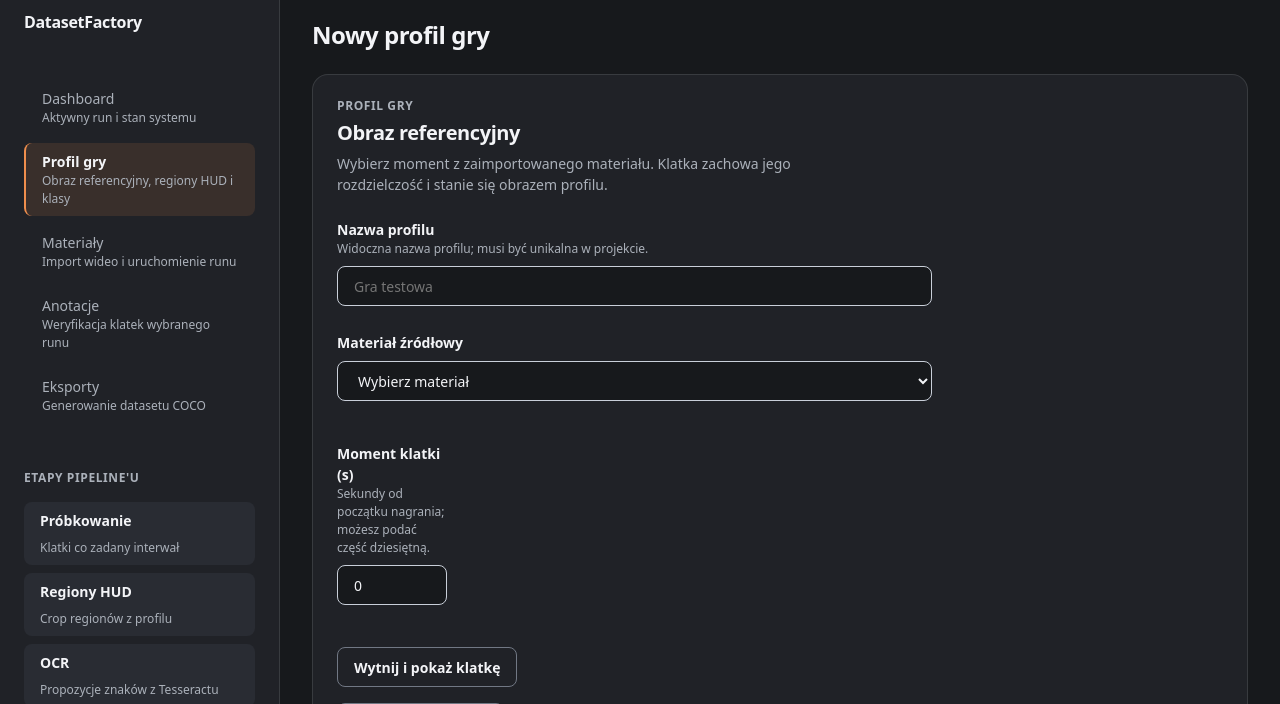
Test case: the reference frame comes from an imported material › keeps a moment past the end of the material inside the browser
This screenshot has width=1280, height=704.
Select "mecz.mp4 — 1920 × 1080 px" in the dropdown labelled "Materiał źródłowy" at (634, 381), box [337,361,932,401]
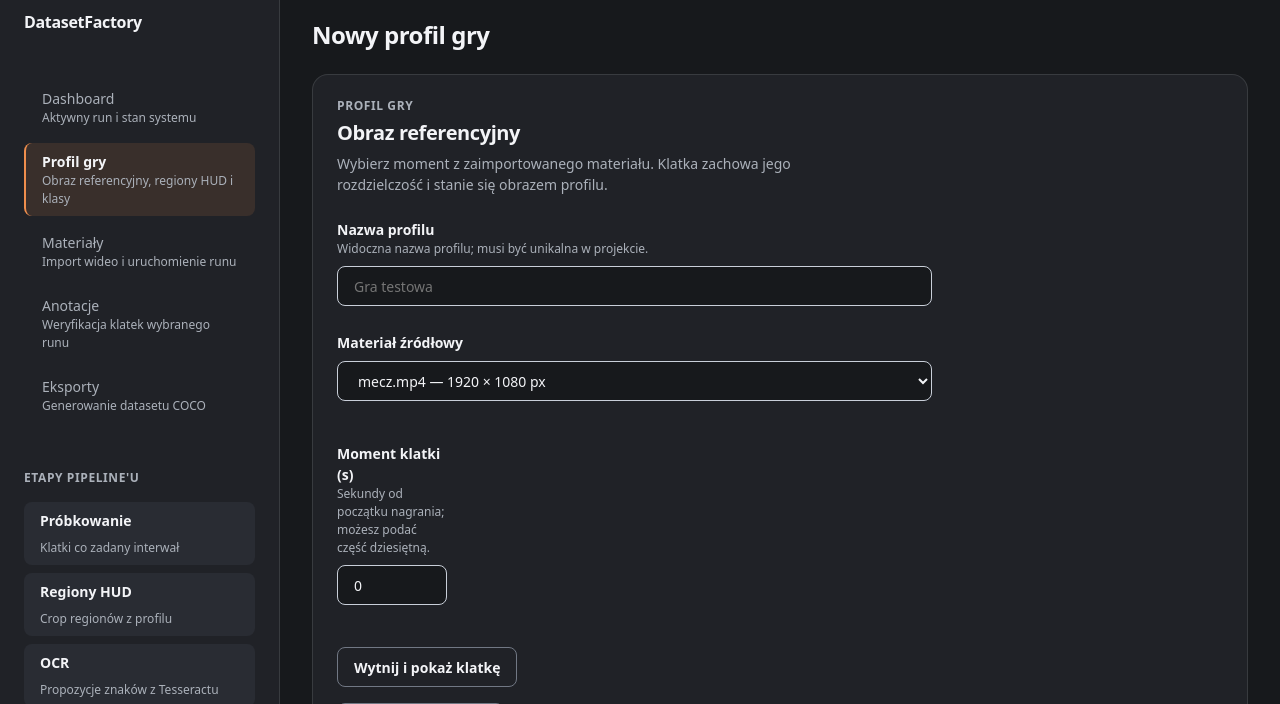
Replace the text in the field labelled "Moment klatki (s)" with "125" at (392, 585), box [337,565,447,605]
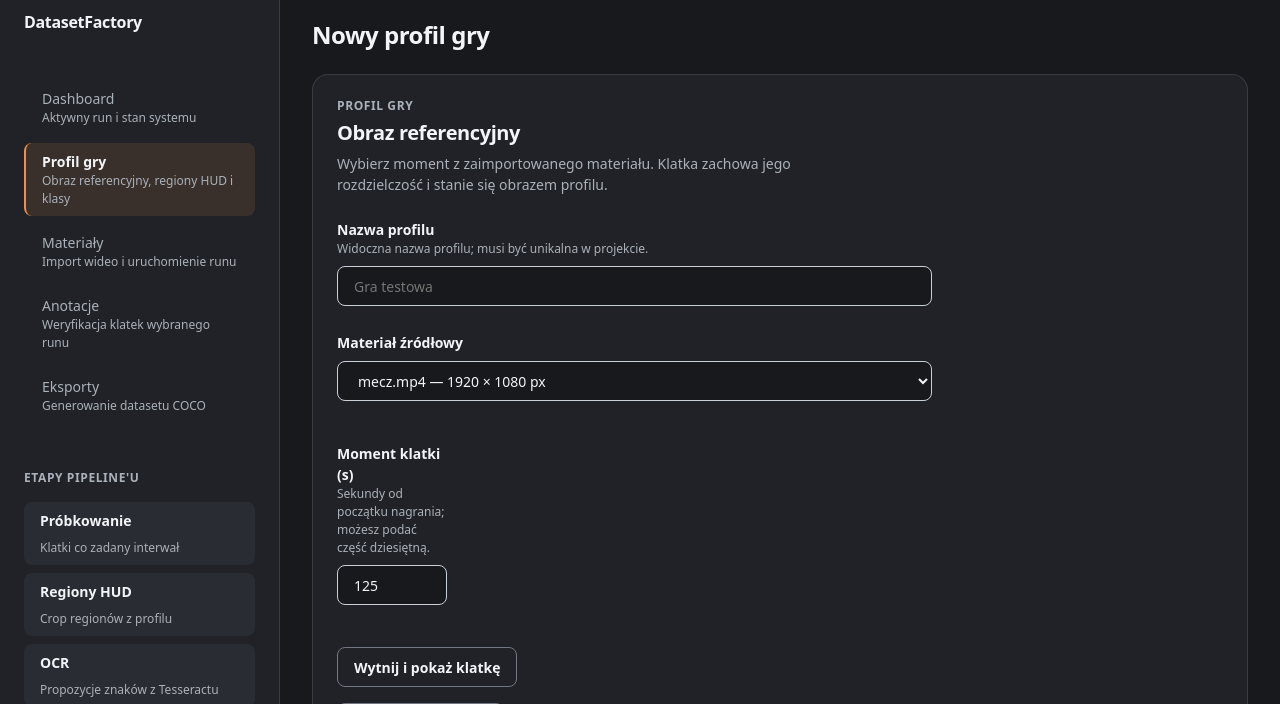
Click the button "Wytnij i pokaż klatkę" at (427, 667), box [337,647,518,687]
(page scrolled)
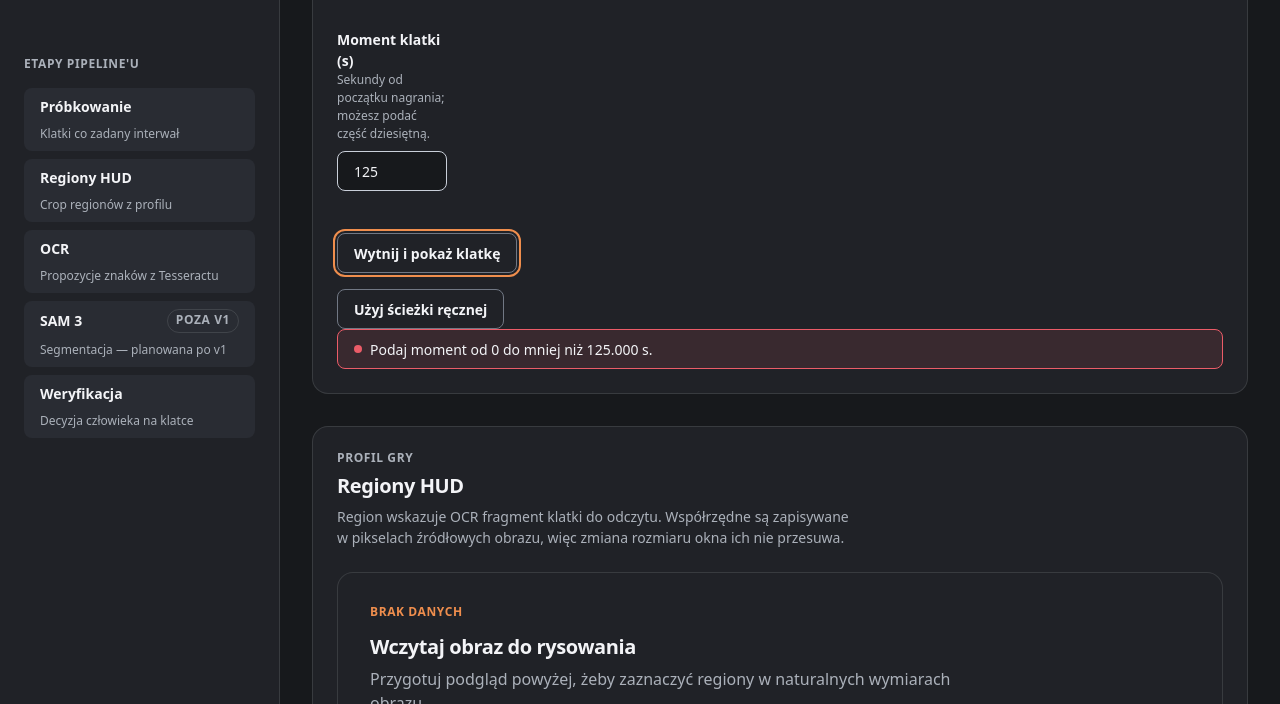
Expected: the text "Podaj moment od 0 do mniej niż 125.000 s." is shown, [370,339,652,360]
